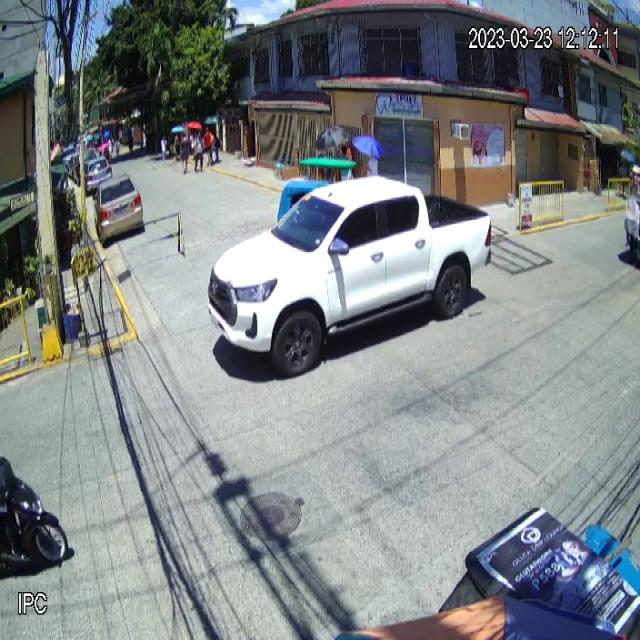Car: (207, 175, 492, 378), (93, 172, 143, 243)
